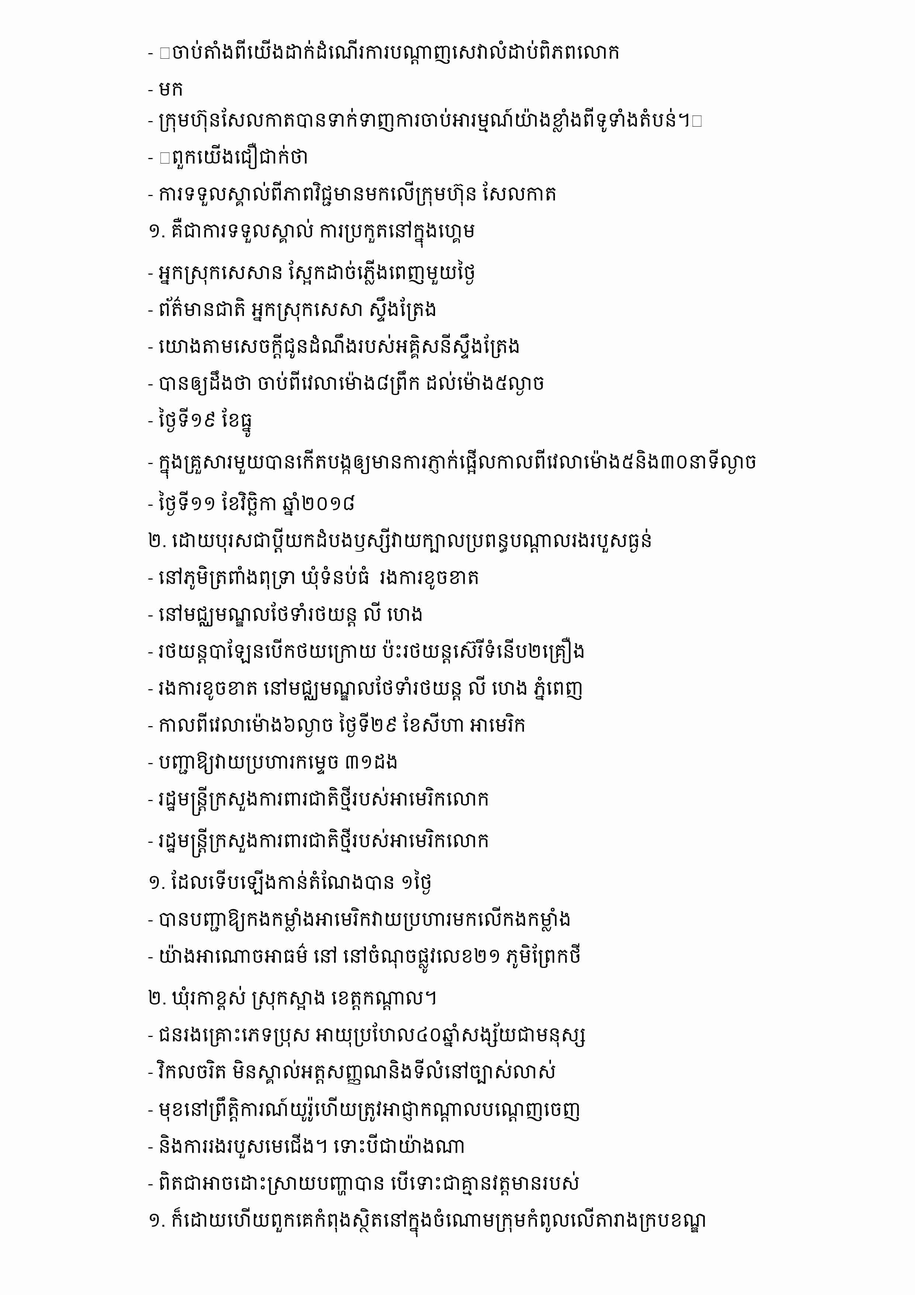text: (148, 449, 762, 479), (148, 1207, 712, 1237), (148, 107, 708, 133), (148, 943, 586, 973), (148, 528, 658, 553), (148, 39, 625, 65), (148, 637, 590, 664), (148, 675, 588, 701), (148, 1096, 586, 1122), (148, 1170, 585, 1196), (148, 906, 576, 932), (148, 1022, 591, 1047), (148, 1059, 561, 1085), (148, 370, 550, 396), (148, 786, 495, 816), (148, 828, 495, 858), (148, 181, 562, 206), (148, 217, 480, 248), (148, 712, 531, 738), (148, 333, 526, 359), (148, 565, 484, 590), (148, 1133, 470, 1159), (148, 260, 481, 285), (148, 296, 442, 322), (148, 869, 437, 895), (148, 601, 429, 627), (148, 986, 442, 1010), (148, 752, 403, 774), (148, 491, 360, 516), (148, 142, 314, 169), (148, 407, 258, 437), (148, 82, 189, 96)
